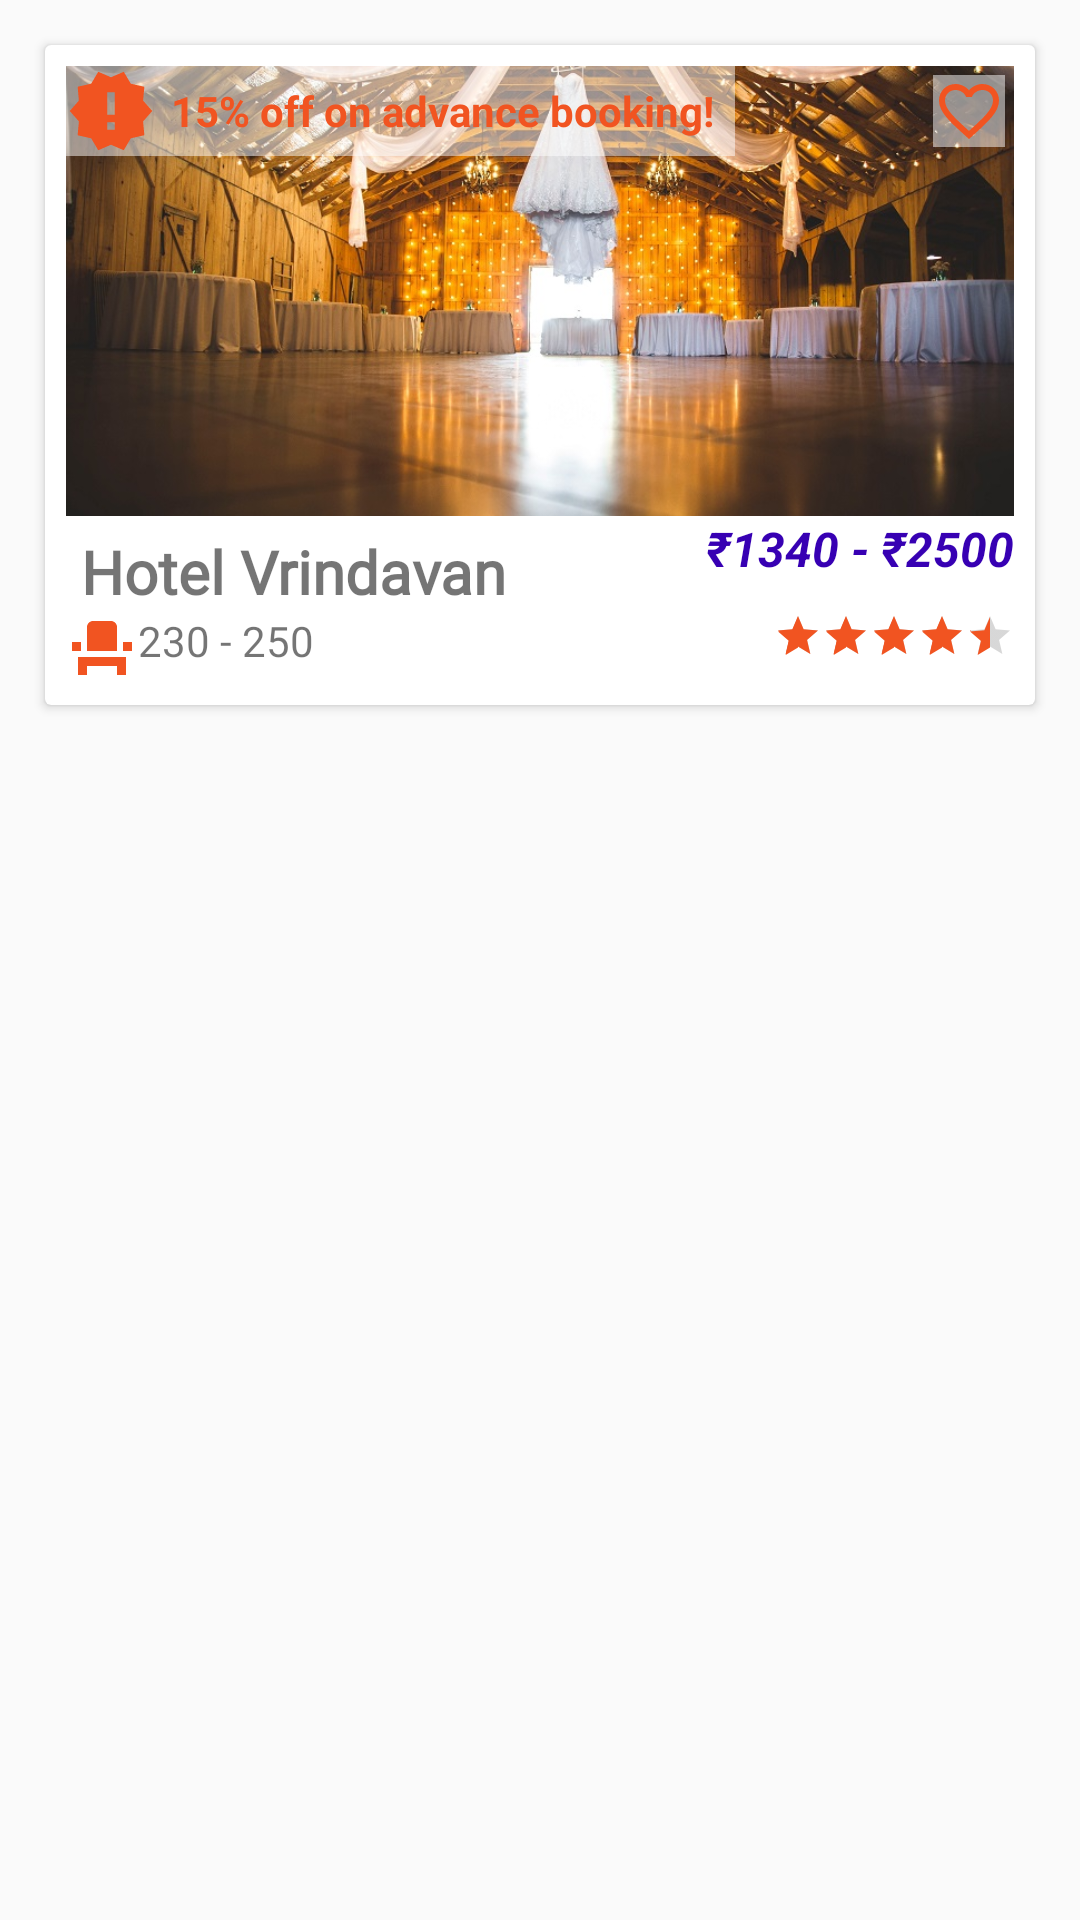

Locate icon controls on the screen. Image size 1080 x 1920, boxes as (x1, y1, x2, y2).
sitting capacity: (72, 621, 132, 675)
